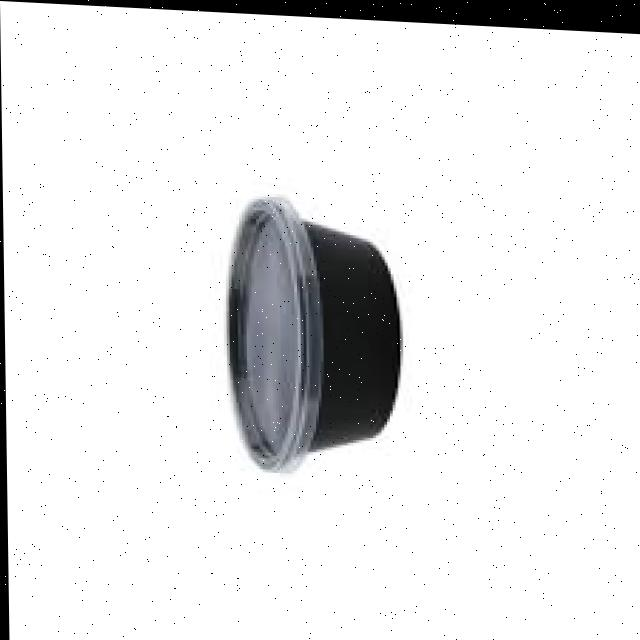disposable: (206, 165, 407, 511)
